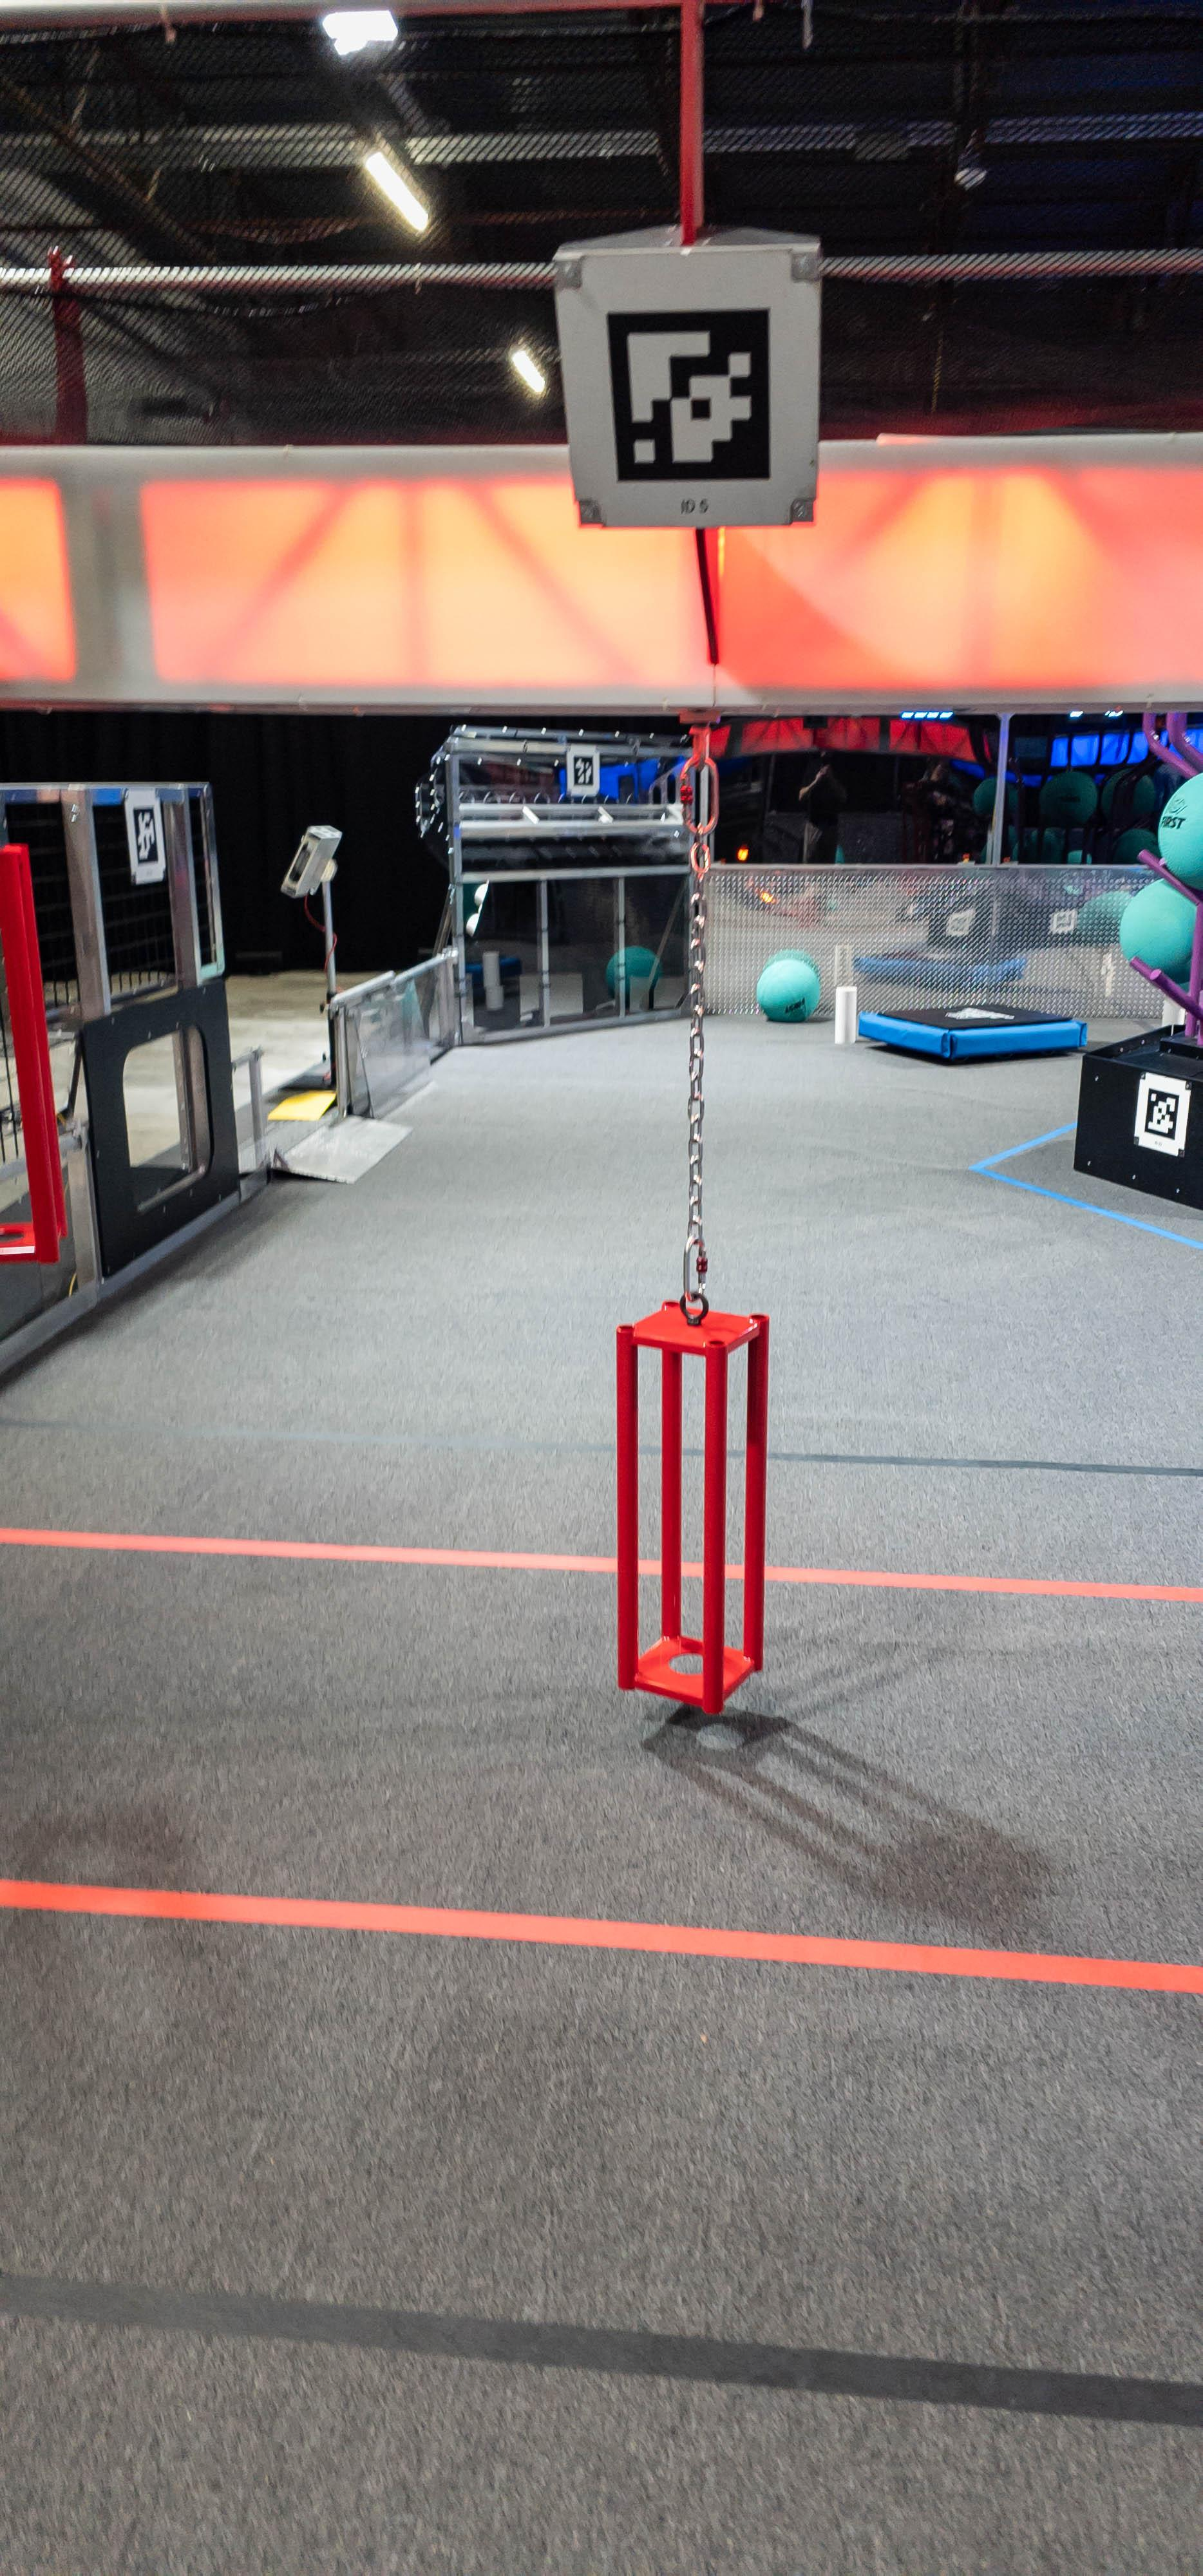ALGAE: (1121, 879, 1196, 986), (1159, 772, 1203, 894), (758, 959, 820, 1023)
